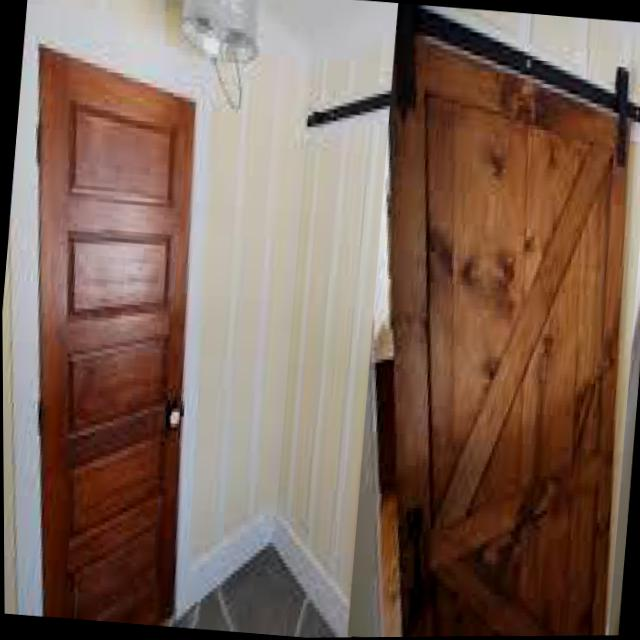close: (342, 1, 639, 638), (0, 7, 260, 628)
